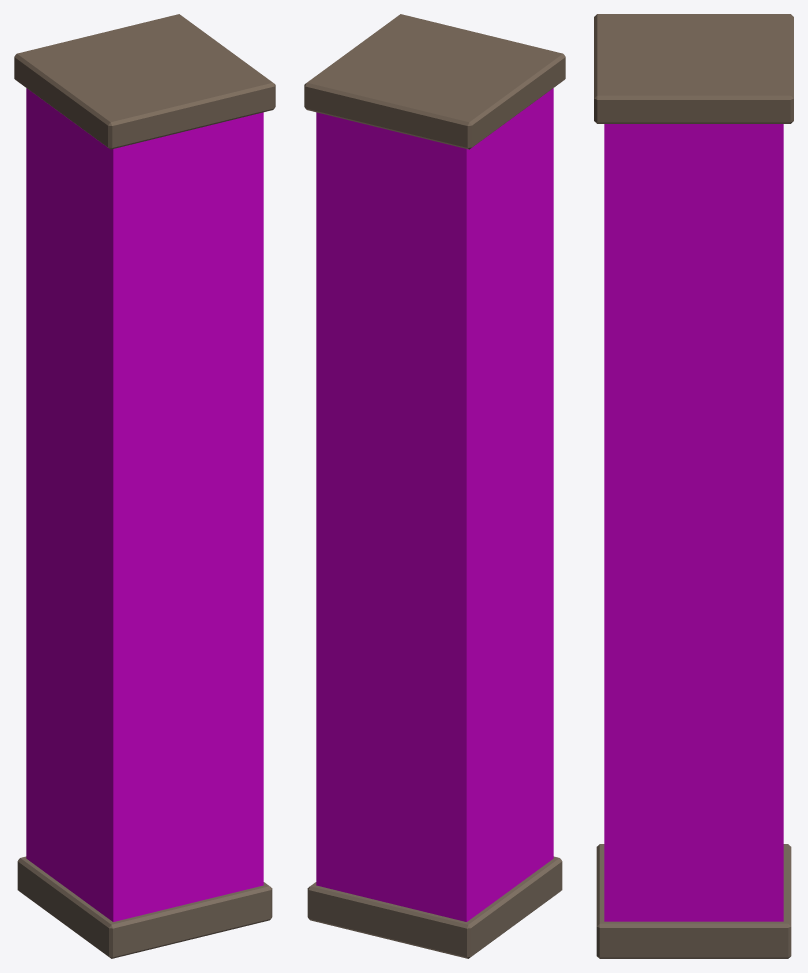
Rendered from ENV_Pillar_Temple_B.glb.
The picture shows the model from 3 angles, left to right: view 1: azimuth 30°, elevation 25°; view 2: azimuth 150°, elevation 25°; view 3: azimuth 270°, elevation 25°; orthographic projection. The views are drawn at different scales.
Visible parts, largest first — view 1: COL_Pillar, ENV_Pillar_Temple_B_Mesh; view 2: COL_Pillar, ENV_Pillar_Temple_B_Mesh; view 3: COL_Pillar, ENV_Pillar_Temple_B_Mesh.
Part boxes in pixels (x1,y1,x2,y2): COL_Pillar: (26,88,263,921); ENV_Pillar_Temple_B_Mesh: (14,14,275,958); COL_Pillar: (316,88,553,921); ENV_Pillar_Temple_B_Mesh: (304,14,565,958); COL_Pillar: (604,124,783,921); ENV_Pillar_Temple_B_Mesh: (594,14,793,958).
Size of the model in its own units: 0.513 by 2.45 by 0.513.
